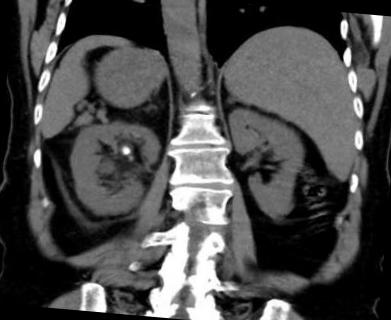Tas_Var: (121, 146, 131, 156)
